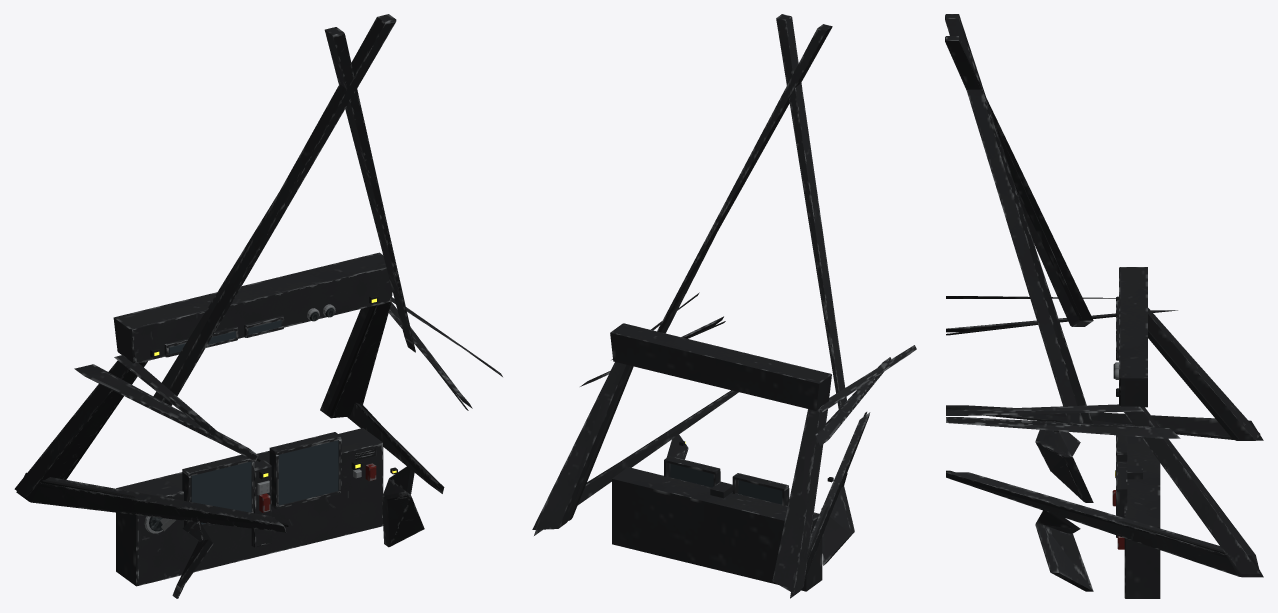
Rendered from cockpit-forward-v5-wear.glb.
3 views of the same model, side by side, from view 1: azimuth 30°, elevation 25°; view 2: azimuth 150°, elevation 25°; view 3: azimuth 270°, elevation 25° (orthographic). The views are drawn at different scales.
Parts seen in each view (by area): view 1: canopy__black-coated-steel, interior__black-coated-steel, display-right__screen-black, display-left__screen-black, canopy__rubber, interior__rubber; view 2: canopy__black-coated-steel, interior__black-coated-steel, canopy__rubber, display-left__screen-black, display-right__screen-black; view 3: canopy__black-coated-steel, interior__black-coated-steel, canopy__rubber, interior__rubber.
Boxes of the visible parts, bbox=[...] form: canopy__black-coated-steel: bbox=[14, 14, 502, 496]; interior__black-coated-steel: bbox=[16, 402, 444, 598]; display-right__screen-black: bbox=[278, 440, 338, 505]; display-left__screen-black: bbox=[191, 461, 251, 524]; canopy__rubber: bbox=[64, 294, 468, 479]; interior__rubber: bbox=[38, 403, 440, 526]; canopy__black-coated-steel: bbox=[532, 14, 916, 593]; interior__black-coated-steel: bbox=[534, 390, 870, 598]; canopy__rubber: bbox=[567, 321, 725, 520]; display-left__screen-black: bbox=[738, 480, 782, 504]; display-right__screen-black: bbox=[670, 463, 713, 487]; canopy__black-coated-steel: bbox=[945, 14, 1260, 573]; interior__black-coated-steel: bbox=[946, 405, 1263, 598]; canopy__rubber: bbox=[946, 296, 1238, 439]; interior__rubber: bbox=[946, 407, 1228, 558].
Size of the model in its own units: 1.92 by 3.32 by 1.85.
Materials: 8 (6 with a texture image).
